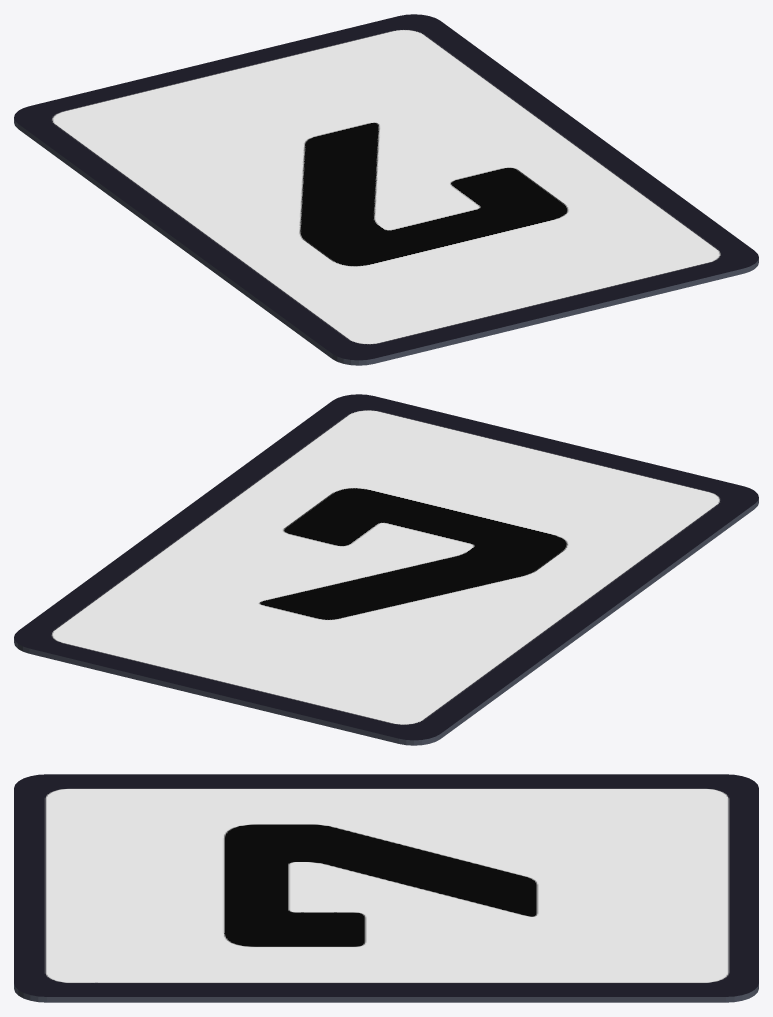
3 views of the same model, one above another, from view 1: azimuth 30°, elevation 25°; view 2: azimuth 150°, elevation 25°; view 3: azimuth 270°, elevation 25° (orthographic). The views are drawn at different scales.
Visible parts, largest first — view 1: 立方体; view 2: 立方体; view 3: 立方体.
Part boxes in pixels (<box>): 立方体: <box>14,14,758,365</box>; 立方体: <box>14,394,758,745</box>; 立方体: <box>14,774,758,1002</box>.
Size of the model in its own units: 8.4 by 0.1 by 11.88.
3 materials, 2 textured.
